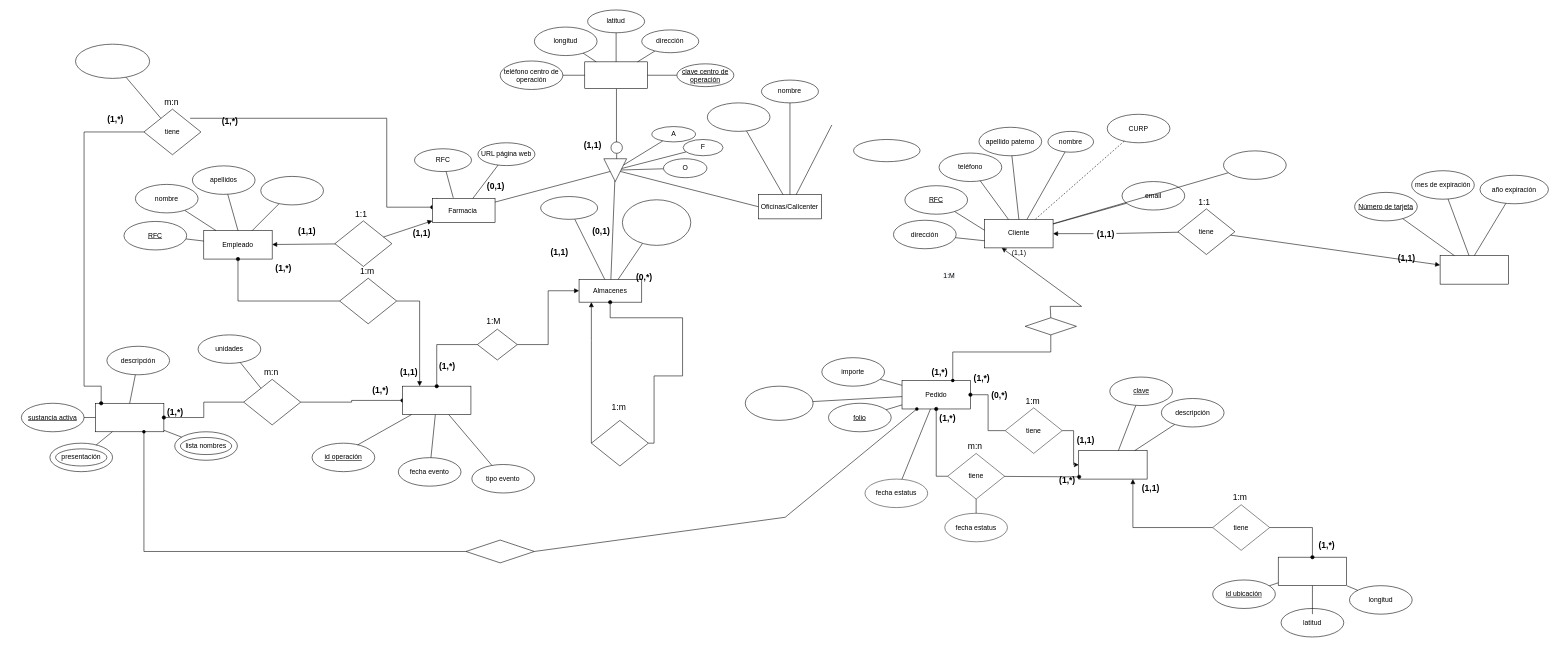
This 1558x647 diagram has some shape labels left out. The shapes that lost their labels are listed below. From the top down, each one's box as (x1, y1, x2, y2) in pixels, then its label:
(75, 44, 150, 78): número de unidades disponibles
(584, 61, 647, 89): Centros de operaciones
(707, 102, 770, 131): clave presupuestal
(853, 139, 920, 162): teléfono callcenter
(1223, 150, 1286, 179): apellido materno
(260, 176, 323, 205): fecha de ingreso
(540, 196, 598, 219): Tipo almacen
(622, 199, 691, 245): Documento con distribución de las secciones
(334, 220, 392, 266): es gerente
(1440, 255, 1509, 284): Tarjeta
(339, 278, 397, 324): es responsable
(477, 329, 517, 360): se hace
(1025, 317, 1076, 335): solicita
(95, 403, 164, 432): Medicamento
(243, 379, 301, 425): es registrado
(402, 386, 471, 415): Operaciones/Evento
(745, 386, 813, 420): fecha de generación de pedido
(591, 420, 648, 466): almacén de contingencia
(1078, 450, 1147, 479): estatus pedido
(465, 540, 534, 563): pertenece
(1278, 557, 1347, 586): Ubicación Actual
